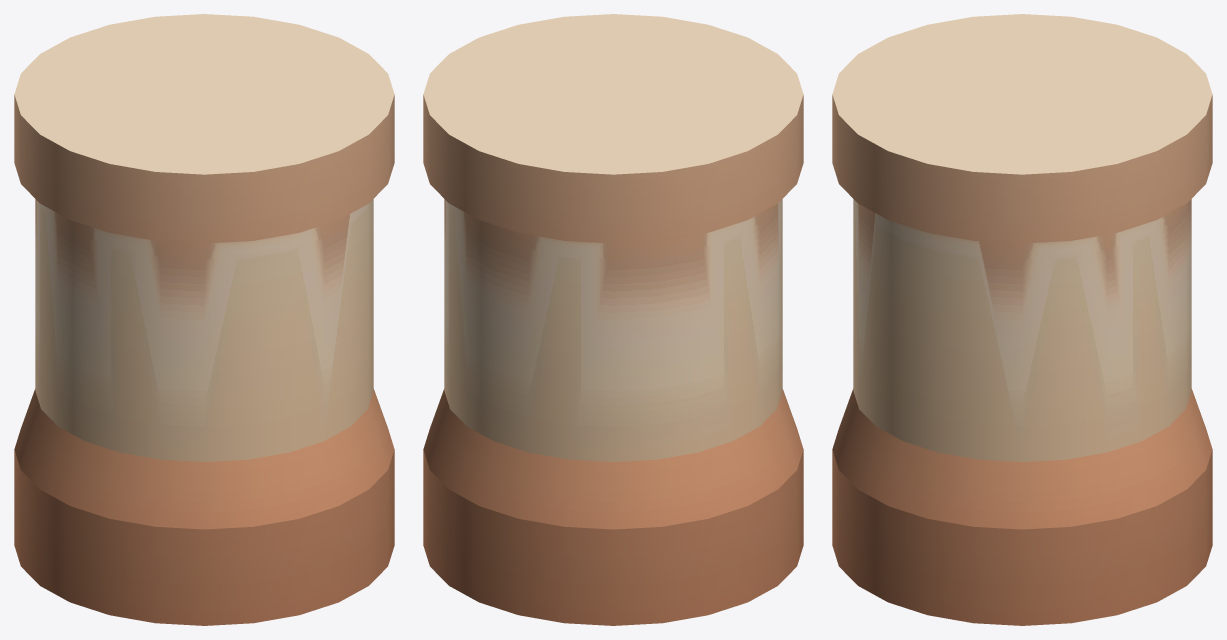
File: tower-base.glb
3 views of the same model, side by side, from view 1: azimuth 30°, elevation 25°; view 2: azimuth 150°, elevation 25°; view 3: azimuth 270°, elevation 25° (orthographic).
Parts seen in each view (by area): view 1: tower-base; view 2: tower-base; view 3: tower-base.
Boxes of the visible parts, x1,y1,x2,y2 form: tower-base: (14,14,394,625); tower-base: (423,14,803,625); tower-base: (832,14,1212,625).
Bounding box in the file's own units: 1 × 1.31 × 1.
1 material, 1 textured.
